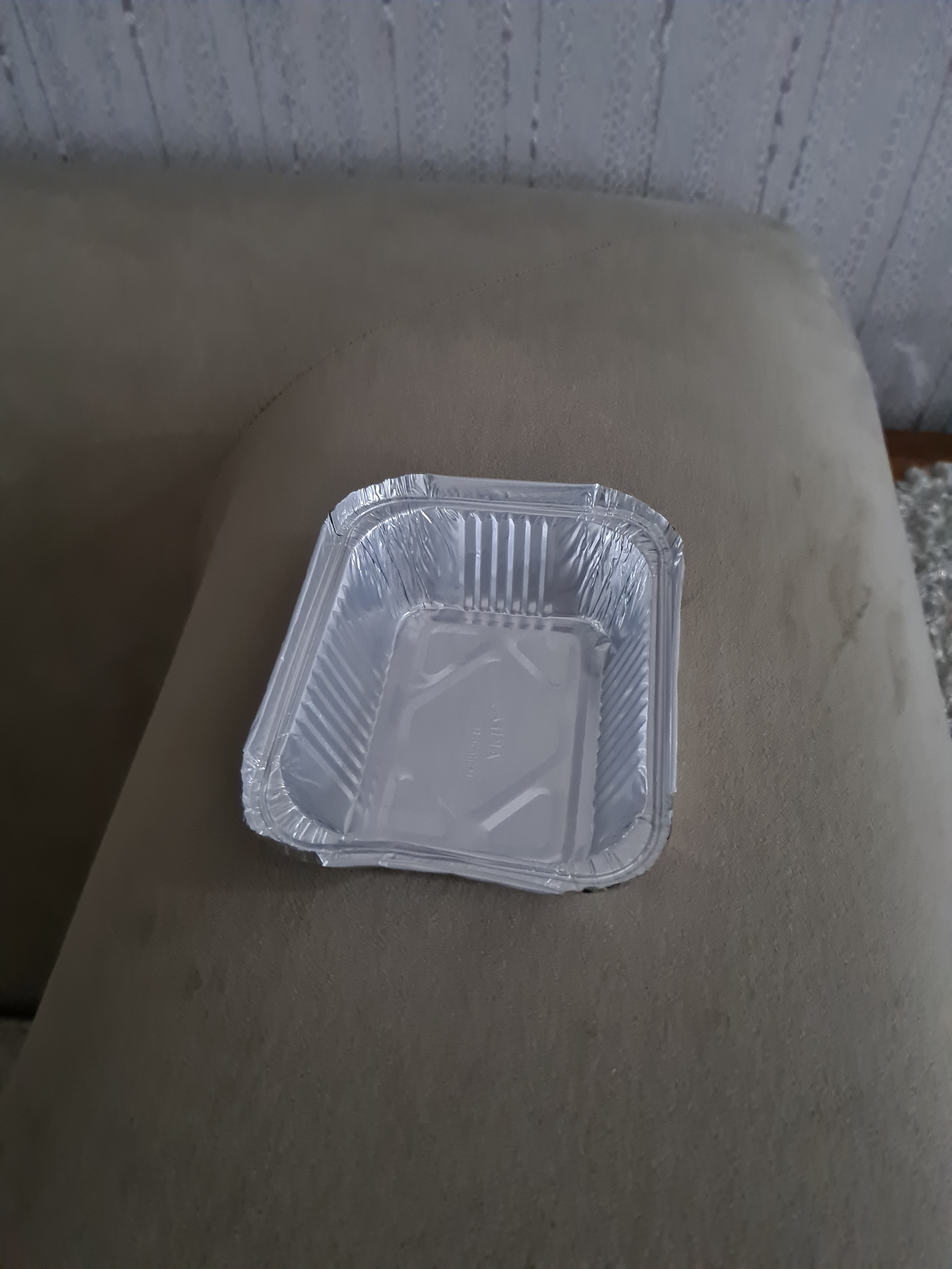Metal: (234, 473, 697, 898)
